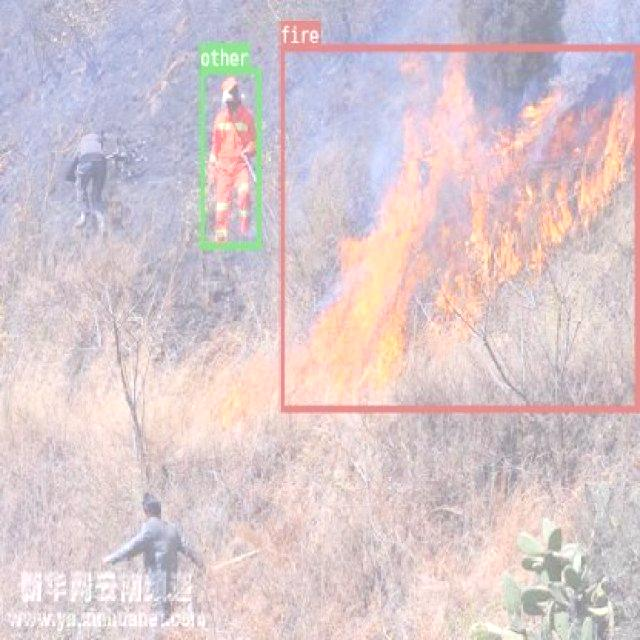fire: (279, 44, 638, 410)
